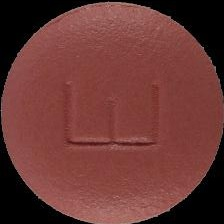65862-118: (0, 0, 224, 224)
